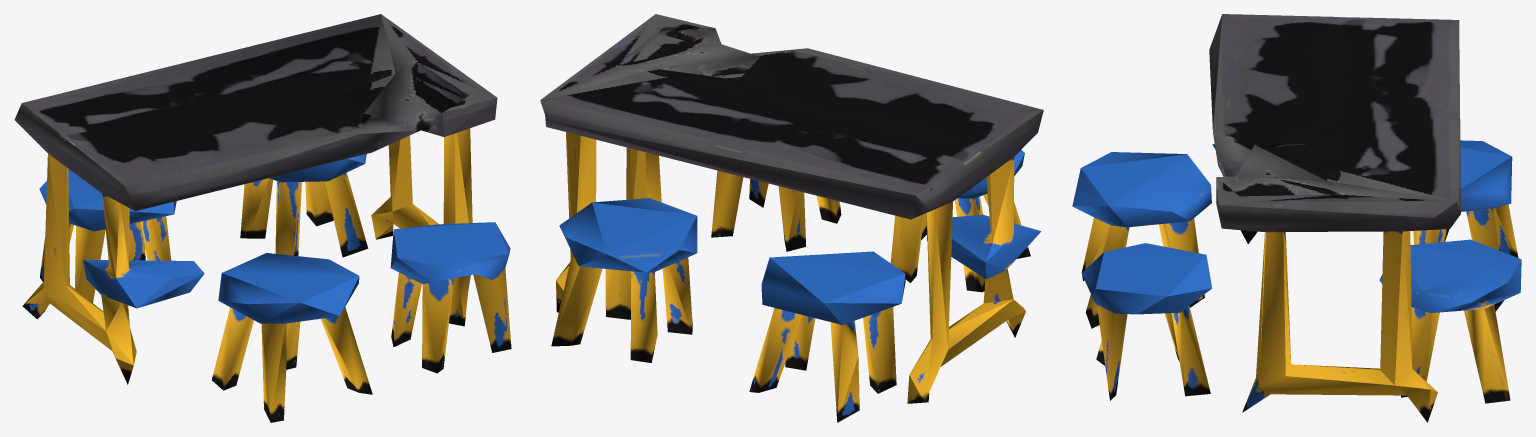
Rendered from cafeteria-table-broken.glb.
3 views of the same model, side by side, from view 1: azimuth 30°, elevation 25°; view 2: azimuth 150°, elevation 25°; view 3: azimuth 270°, elevation 25° (orthographic). The views are drawn at different scales.
Visible parts, largest first — view 1: geometry_0.001; view 2: geometry_0.001; view 3: geometry_0.001.
Part boxes in pixels (x1,y1,x2,y2): geometry_0.001: [14, 14, 511, 422]; geometry_0.001: [540, 14, 1043, 422]; geometry_0.001: [1072, 14, 1521, 422].
Bounding box in the file's own units: 0.996 × 0.5391 × 0.9802.
1 material, 1 textured.
